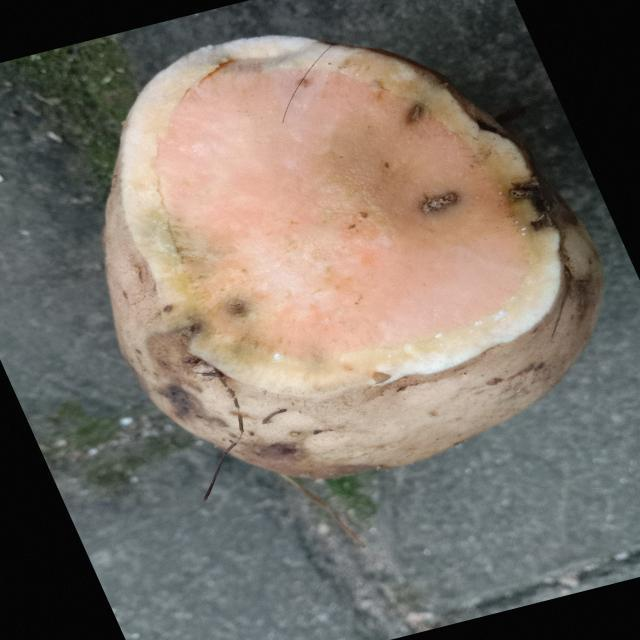Sick Sweet Potato_Tuber Rot: (118, 36, 560, 395)
